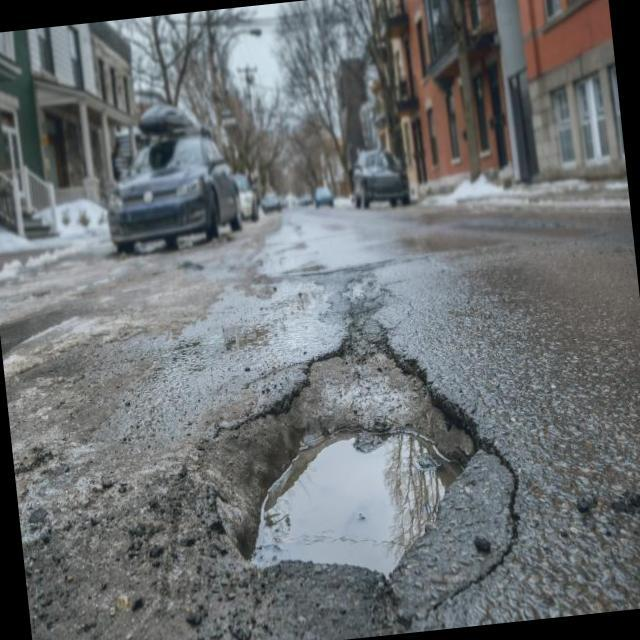Pothole: (251, 354, 474, 576)
